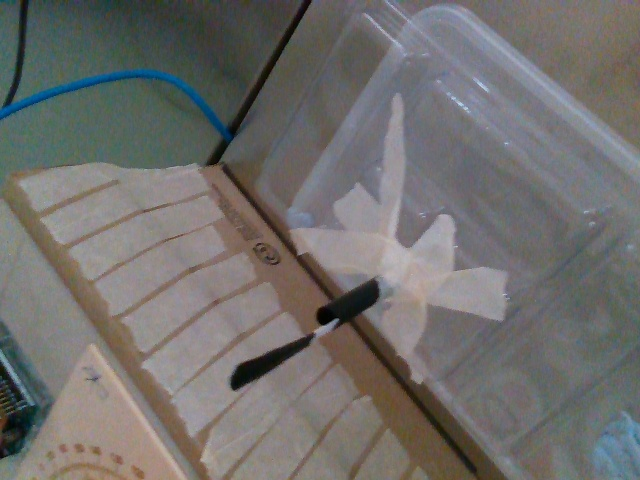test_strip: (228, 316, 337, 391)
